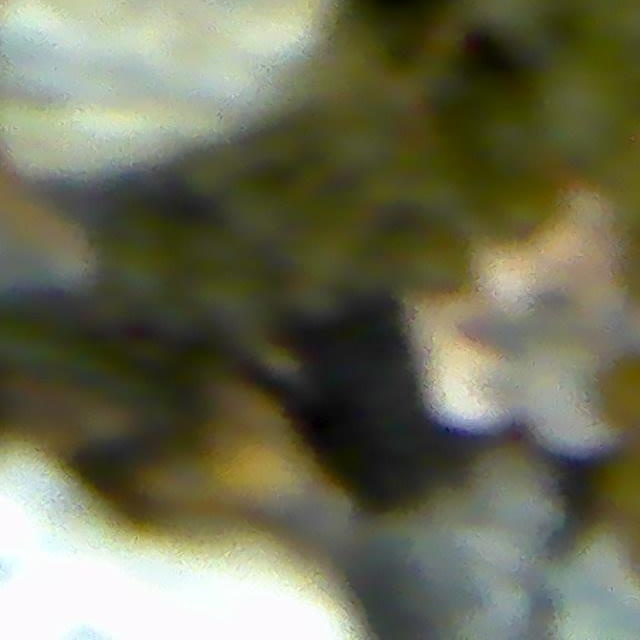SeaGrape: (534, 48, 636, 162), (476, 106, 543, 177)
